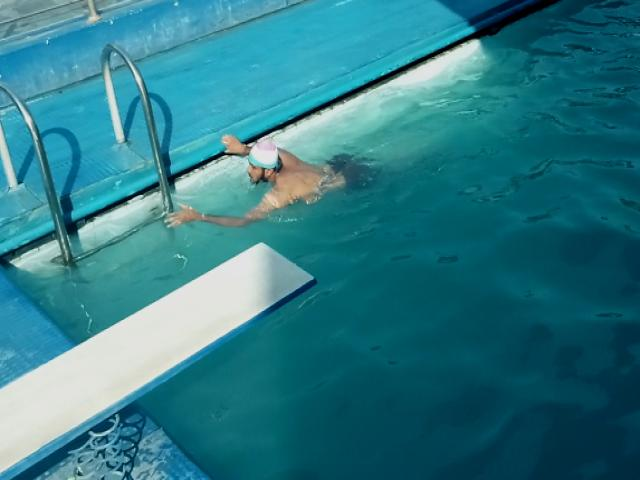swimming: (160, 134, 386, 226)
